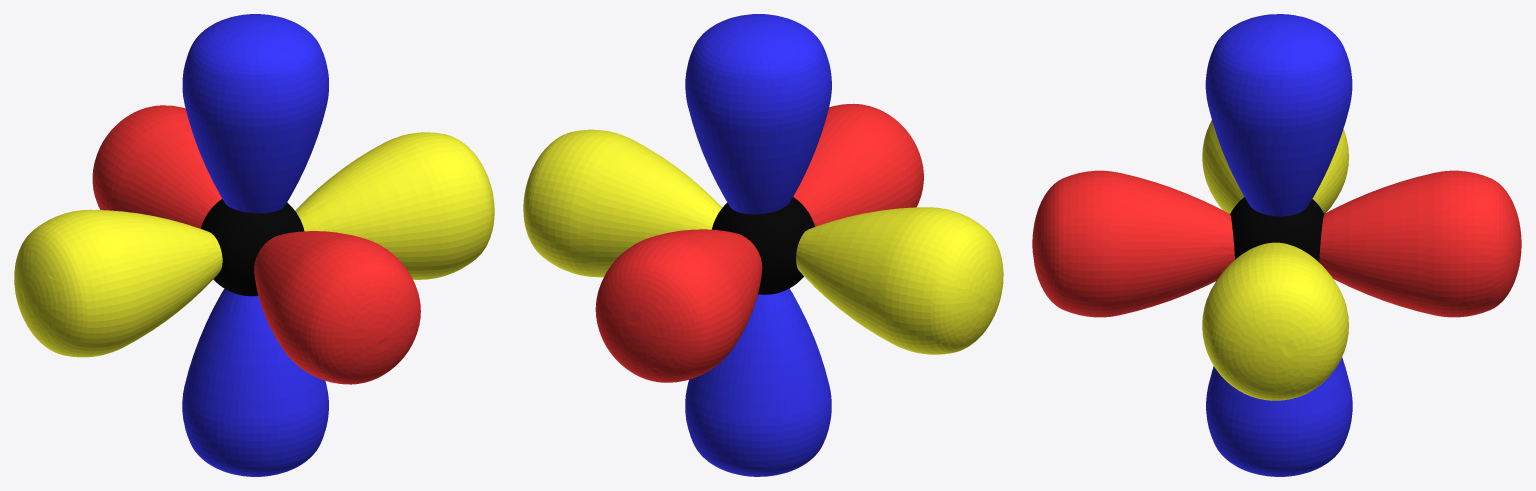
Rendered from 3Carbono_sp.glb.
The picture shows the model from 3 angles, left to right: view 1: azimuth 30°, elevation 25°; view 2: azimuth 150°, elevation 25°; view 3: azimuth 270°, elevation 25°; orthographic projection.
Visible parts, largest first — view 1: root; view 2: root; view 3: root.
Part boxes in pixels (<box>): root: <box>14,14,494,476</box>; root: <box>523,14,1003,476</box>; root: <box>1032,14,1521,476</box>.
Size of the model in its own units: 0.1069 by 0.1 by 0.1.
